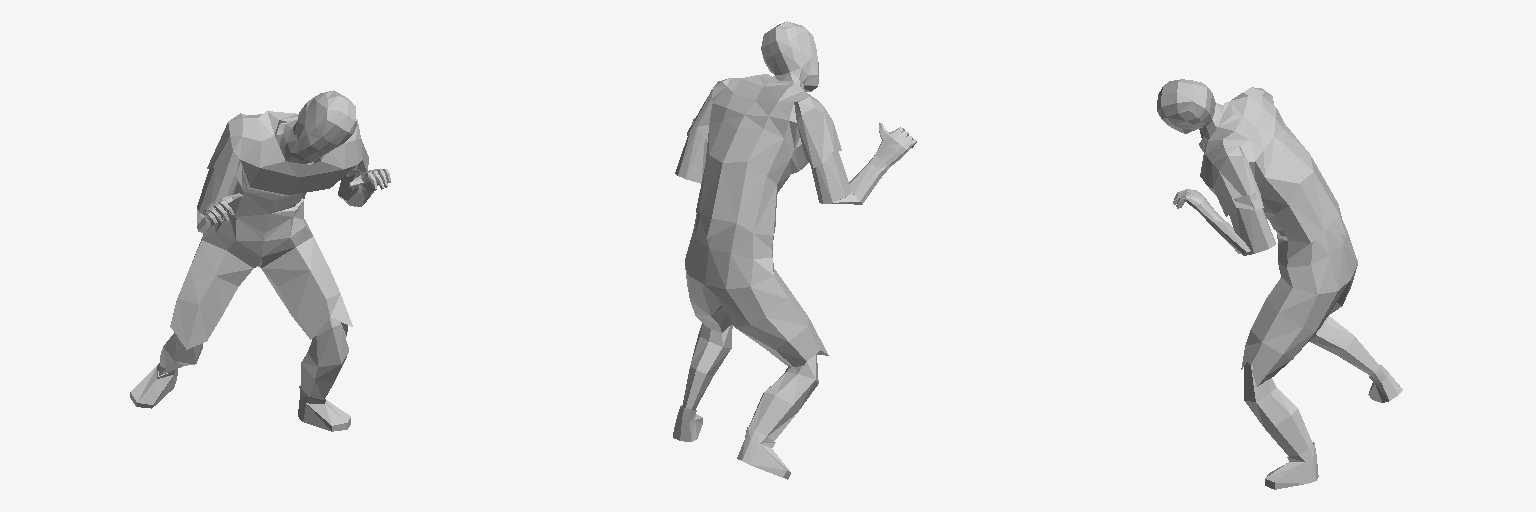
The model's file is ZombieAttack(47).obj.
3 renders of one model, left to right at view 1: azimuth 30°, elevation 25°; view 2: azimuth 150°, elevation 25°; view 3: azimuth 270°, elevation 25°, orthographic.
Visible parts, largest first — view 1: Object001; view 2: Object001; view 3: Object001.
Part boxes in pixels (left/top/right/bottom): Object001: left=130, top=90, right=390, bottom=431; Object001: left=673, top=21, right=916, bottom=479; Object001: left=1157, top=79, right=1402, bottom=489.
Size of the model in its own units: 27.06 by 49.92 by 29.35.